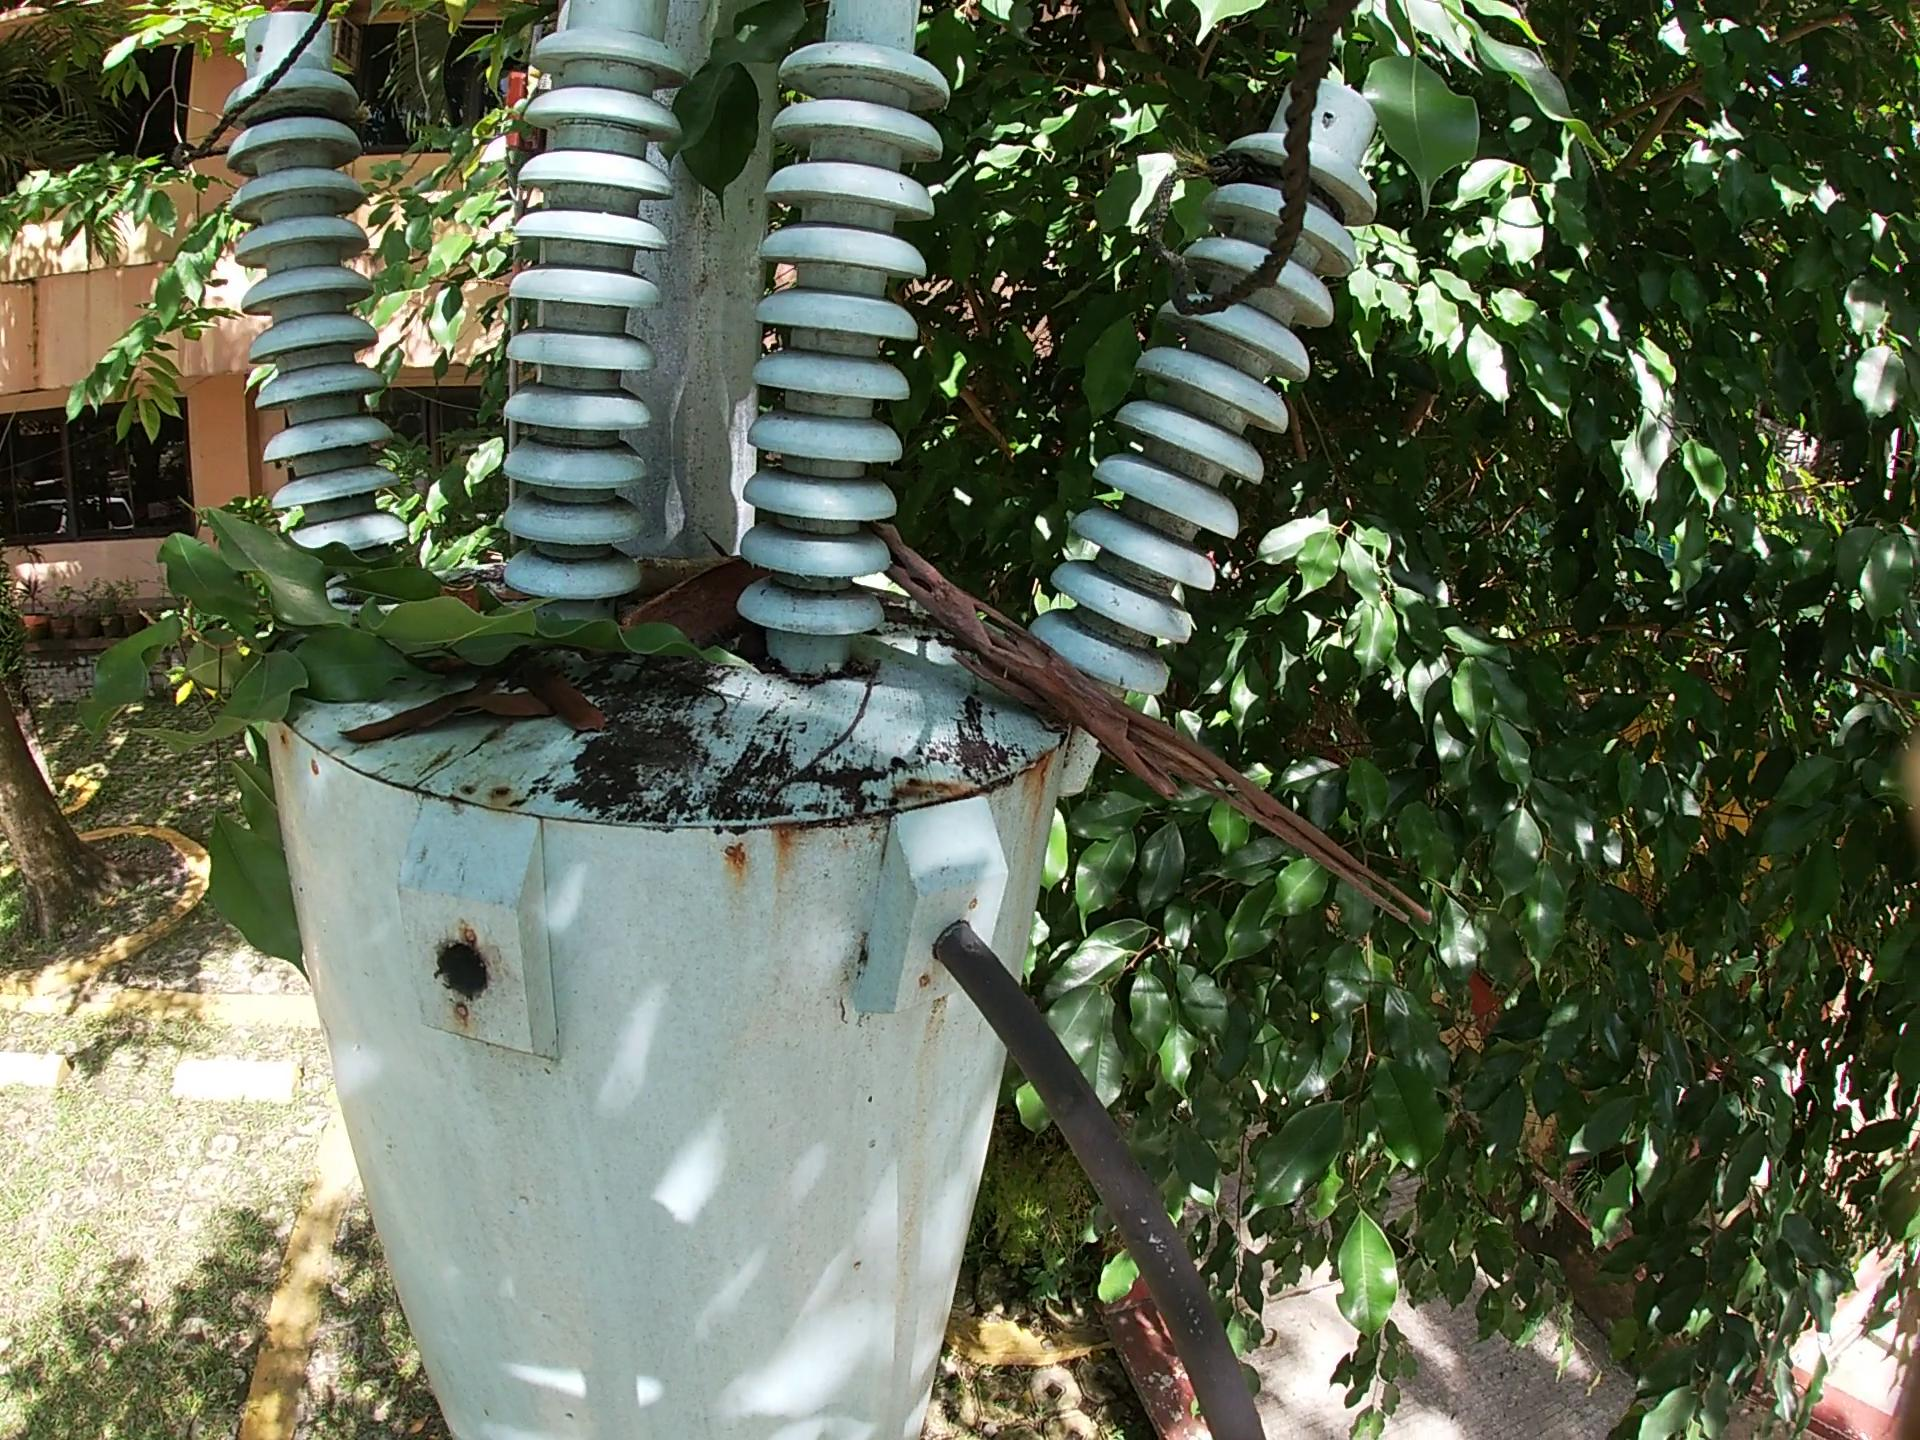branch with leaves: (67, 487, 760, 988)
leaf: (333, 676, 497, 756), (522, 670, 609, 738), (452, 690, 561, 726)
mahogany fruit: (620, 557, 779, 663)
tree branch: (872, 520, 1442, 942)
